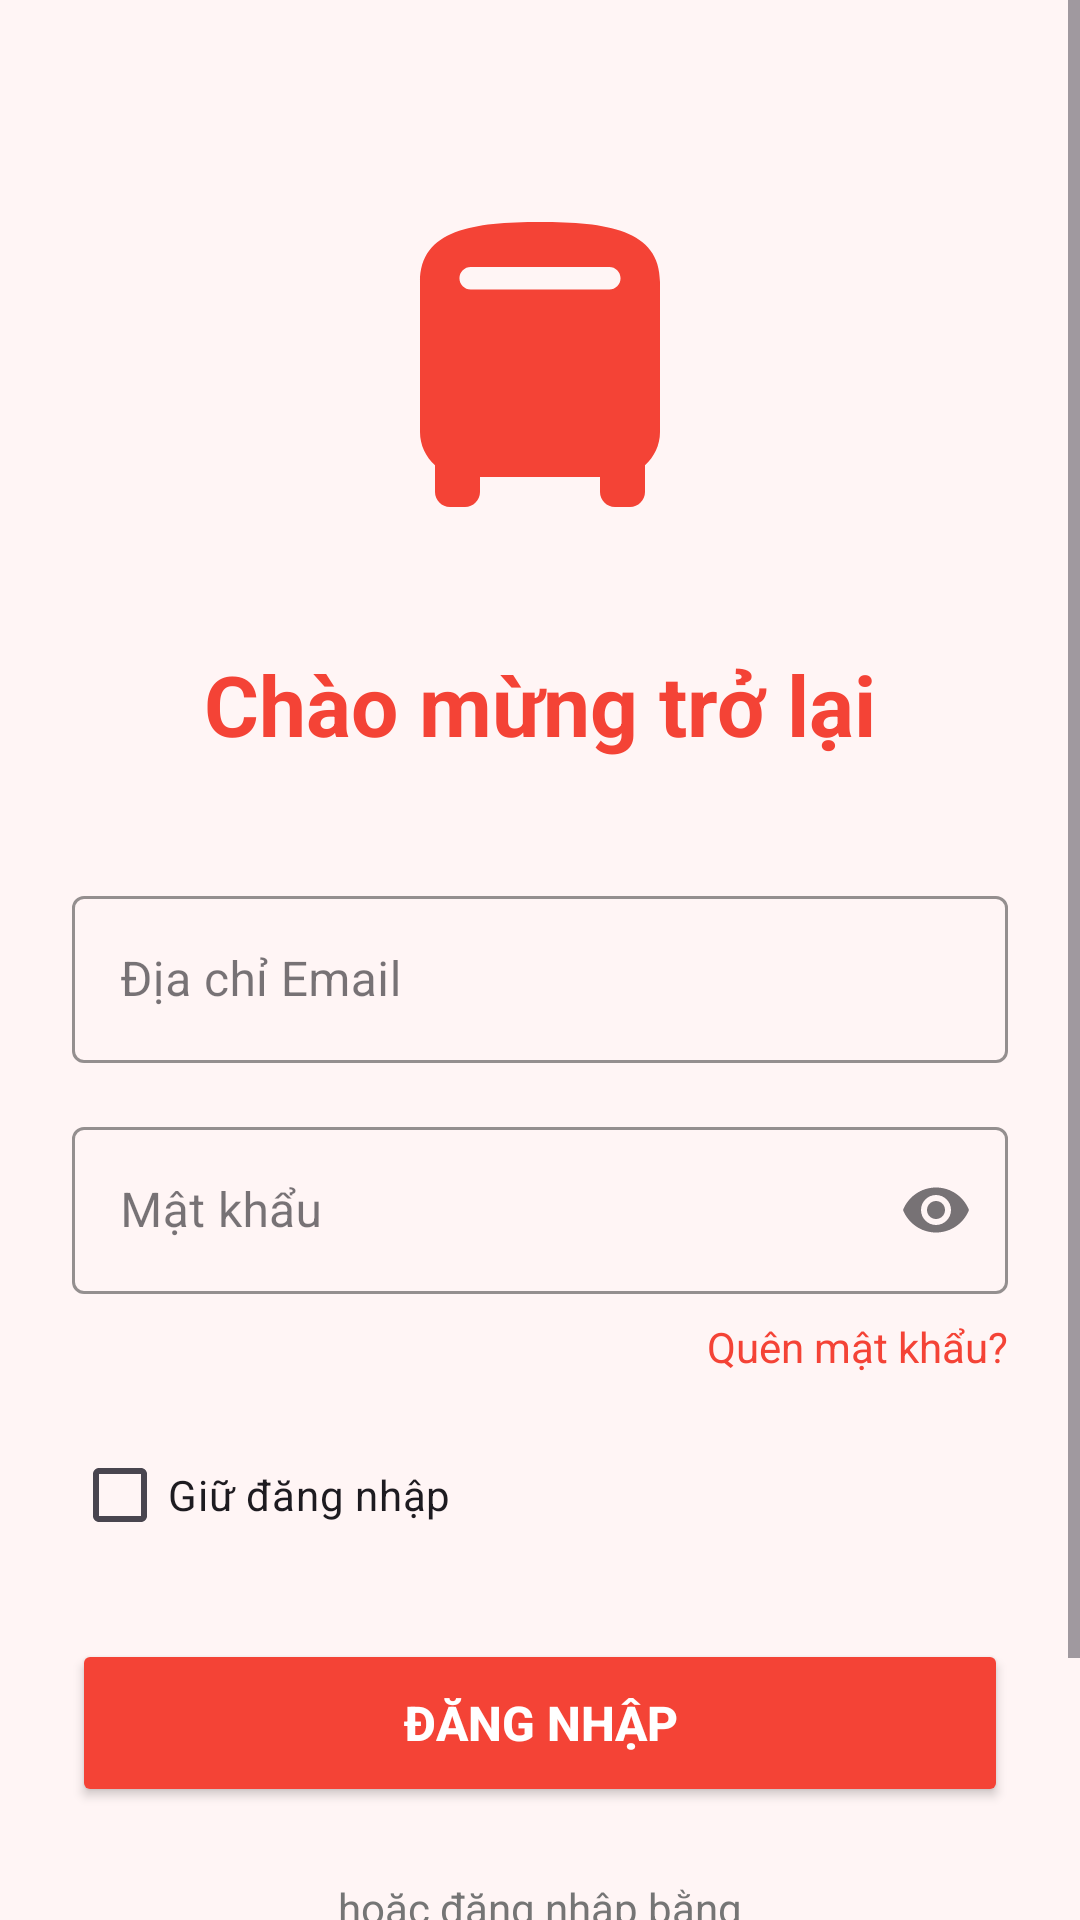

Screen size 1080×1920. Icon name, then its box in pixels as BBox(x1, y1, x2, y2):
Bus Icon: BBox(420, 222, 660, 507)
